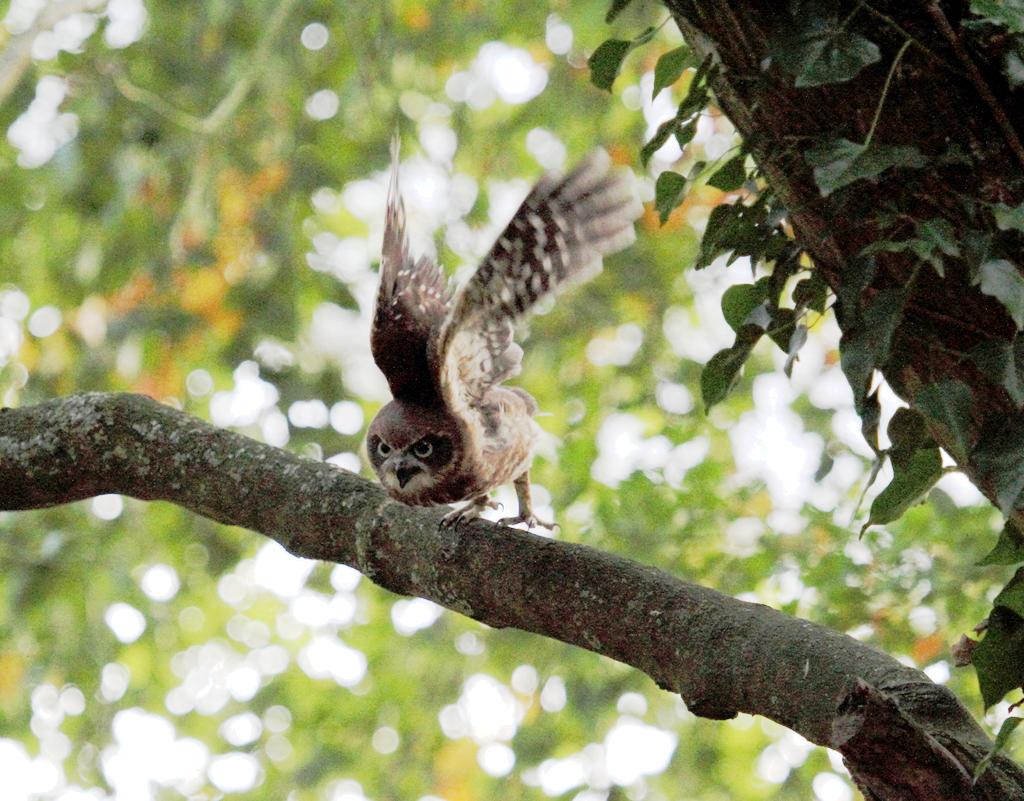Owl: (362, 116, 652, 536)
